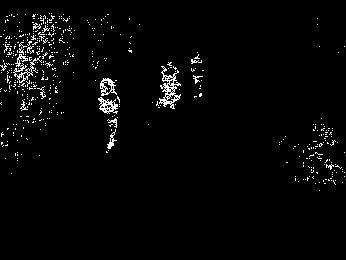person: (97, 76, 121, 154), (189, 50, 206, 100)
